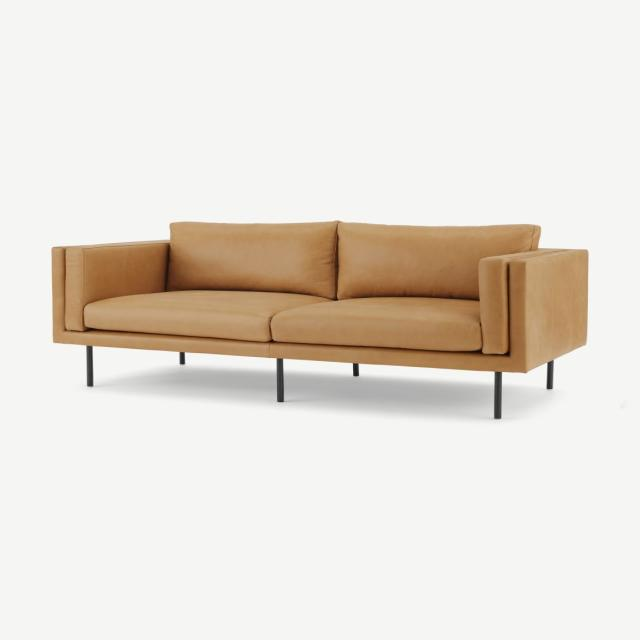Soffa: (36, 211, 590, 421)
